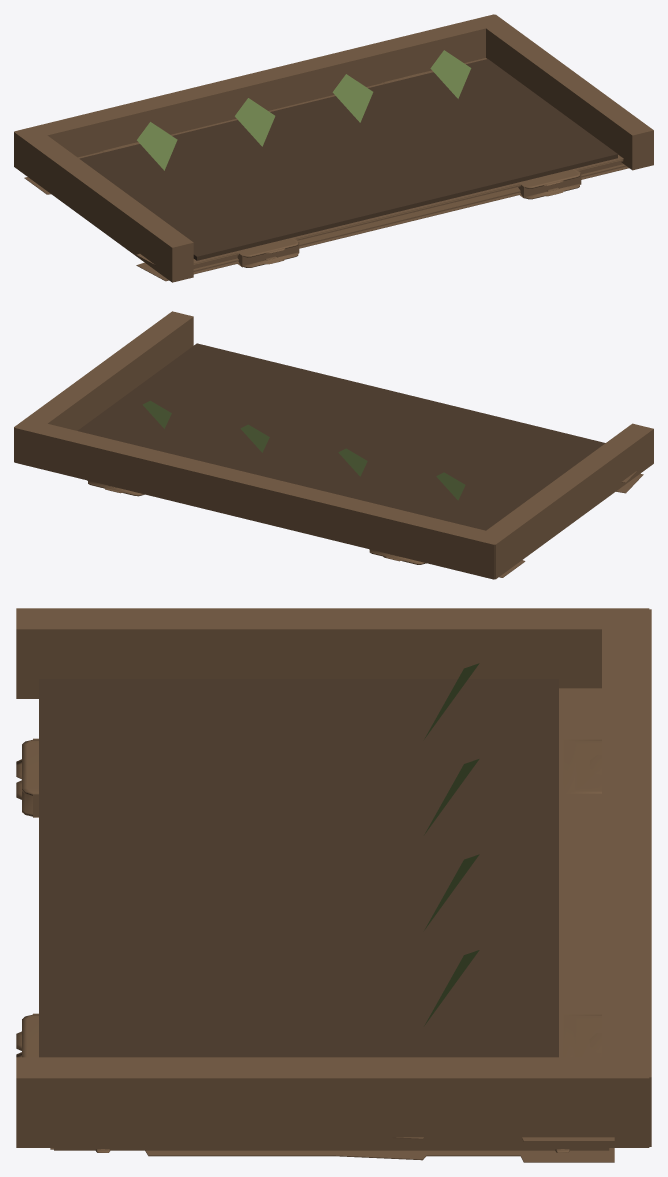
File: station_toma.glb
3 views of the same model, one above another, from view 1: azimuth 30°, elevation 25°; view 2: azimuth 150°, elevation 25°; view 3: azimuth 270°, elevation 25° (orthographic). The views are drawn at different scales.
Visible parts, largest first — view 1: WorkContactPart, TrayBack, TraySide, TraySide.001, RetainedSeedTray, SeedlingLeaf, SeedlingLeaf.002, SeedlingLeaf.003, SeedlingLeaf.001; view 2: WorkContactPart, TrayBack, TraySide, TraySide.001, RetainedSeedTray; view 3: WorkContactPart, TraySide.001, TraySide, RetainedSeedTray, TrayBack.
Part boxes in pixels (<box>): WorkContactPart: <box>79,59,617,260</box>; TrayBack: <box>14,14,505,157</box>; TraySide: <box>14,132,193,282</box>; TraySide.001: <box>474,14,653,170</box>; RetainedSeedTray: <box>24,58,628,281</box>; SeedlingLeaf: <box>137,122,177,170</box>; SeedlingLeaf.002: <box>332,74,373,122</box>; SeedlingLeaf.003: <box>430,50,471,98</box>; SeedlingLeaf.001: <box>235,98,275,146</box>; WorkContactPart: <box>77,343,605,530</box>; TrayBack: <box>14,423,505,579</box>; TraySide: <box>475,423,653,579</box>; TraySide.001: <box>14,311,193,461</box>; RetainedSeedTray: <box>87,470,643,577</box>; WorkContactPart: <box>39,679,558,1057</box>; TraySide.001: <box>16,1057,649,1147</box>; TraySide: <box>16,608,649,698</box>; RetainedSeedTray: <box>16,688,614,1162</box>; TrayBack: <box>602,609,651,1146</box>.
Bounding box in the file's own units: 0.5 × 0.058 × 0.281.
